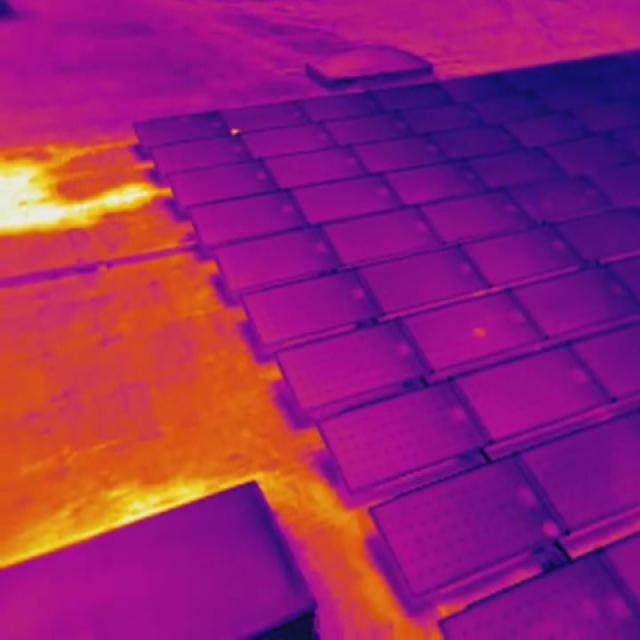Orange-Spots: (473, 325, 486, 337), (231, 126, 239, 136)
